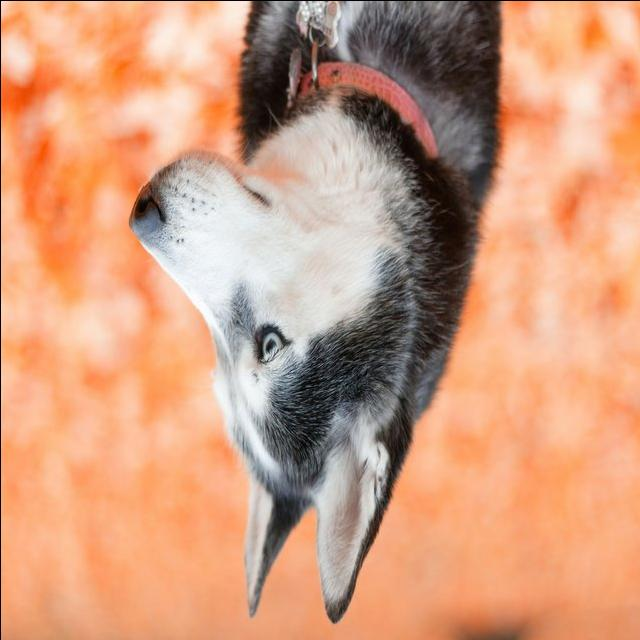husky: (126, 1, 503, 625)
